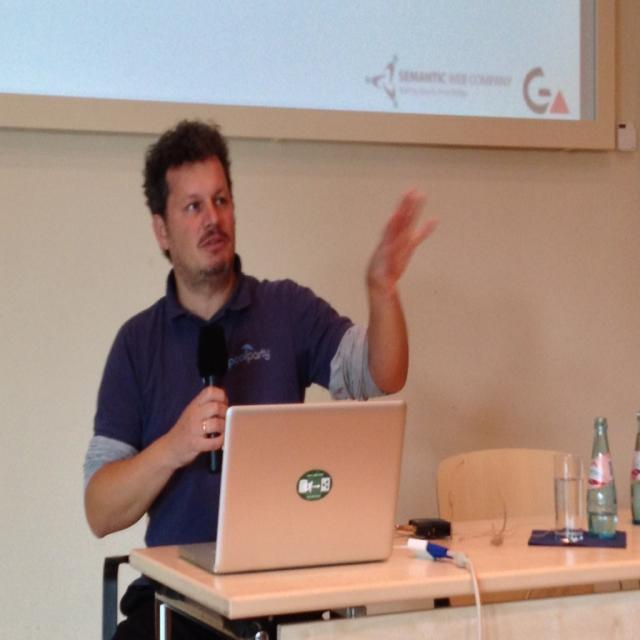chair: (437, 447, 578, 522)
desk: (128, 507, 640, 639)
laptop: (170, 398, 406, 578)
person: (78, 118, 438, 637)
